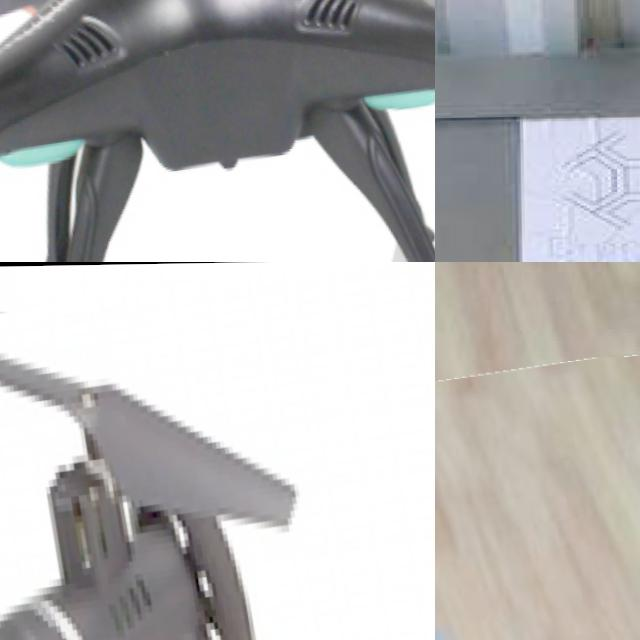drone: (0, 262, 435, 640), (0, 0, 435, 262), (435, 353, 640, 640)
